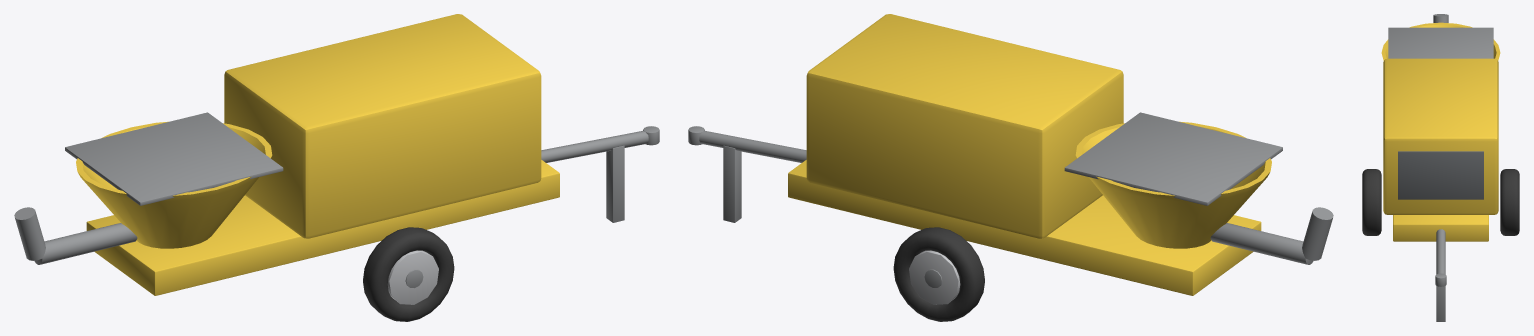
The model's file is EQP-CON-007_lod1.glb.
3 views of the same model, side by side, from view 1: azimuth 30°, elevation 25°; view 2: azimuth 150°, elevation 25°; view 3: azimuth 270°, elevation 25° (orthographic). The views are drawn at different scales.
Visible parts, largest first — view 1: EQP-CON-007_motor, EQP-CON-007_chassi, EQP-CON-007_grelha, EQP-CON-007_funil, EQP-CON-007_roda-1_pneu, EQP-CON-007_saida, EQP-CON-007_roda-1_aro, EQP-CON-007_cambao, EQP-CON-007_apoio, EQP-CON-007_curva; view 2: EQP-CON-007_motor, EQP-CON-007_chassi, EQP-CON-007_grelha, EQP-CON-007_funil, EQP-CON-007_roda1_pneu, EQP-CON-007_saida, EQP-CON-007_roda1_aro, EQP-CON-007_cambao, EQP-CON-007_apoio, EQP-CON-007_curva; view 3: EQP-CON-007_motor, EQP-CON-007_grade, EQP-CON-007_grelha, EQP-CON-007_chassi, EQP-CON-007_roda1_pneu, EQP-CON-007_roda-1_pneu, EQP-CON-007_funil, EQP-CON-007_cambao, EQP-CON-007_apoio, EQP-CON-007_engate, EQP-CON-007_curva.
Part boxes in pixels (left/top/right/bottom): EQP-CON-007_motor: left=224, top=14, right=541, bottom=238; EQP-CON-007_chassi: left=86, top=160, right=559, bottom=295; EQP-CON-007_grelha: left=65, top=112, right=283, bottom=205; EQP-CON-007_funil: left=76, top=121, right=272, bottom=248; EQP-CON-007_roda-1_pneu: left=363, top=227, right=454, bottom=321; EQP-CON-007_saida: left=34, top=223, right=137, bottom=264; EQP-CON-007_roda-1_aro: left=387, top=250, right=438, bottom=304; EQP-CON-007_cambao: left=541, top=130, right=648, bottom=162; EQP-CON-007_apoio: left=606, top=145, right=624, bottom=222; EQP-CON-007_curva: left=14, top=207, right=45, bottom=260; EQP-CON-007_motor: left=806, top=14, right=1123, bottom=238; EQP-CON-007_chassi: left=788, top=160, right=1261, bottom=295; EQP-CON-007_grelha: left=1064, top=112, right=1282, bottom=205; EQP-CON-007_funil: left=1075, top=121, right=1271, bottom=248; EQP-CON-007_roda1_pneu: left=893, top=227, right=984, bottom=321; EQP-CON-007_saida: left=1210, top=223, right=1313, bottom=264; EQP-CON-007_roda1_aro: left=909, top=250, right=960, bottom=304; EQP-CON-007_cambao: left=699, top=130, right=806, bottom=162; EQP-CON-007_apoio: left=723, top=145, right=741, bottom=222; EQP-CON-007_curva: left=1302, top=207, right=1333, bottom=260; EQP-CON-007_motor: left=1383, top=58, right=1498, bottom=214; EQP-CON-007_grade: left=1398, top=151, right=1483, bottom=199; EQP-CON-007_grelha: left=1388, top=27, right=1493, bottom=58; EQP-CON-007_chassi: left=1393, top=215, right=1488, bottom=241; EQP-CON-007_roda1_pneu: left=1500, top=169, right=1519, bottom=235; EQP-CON-007_roda-1_pneu: left=1362, top=169, right=1381, bottom=235; EQP-CON-007_funil: left=1381, top=22, right=1500, bottom=60; EQP-CON-007_cambao: left=1436, top=229, right=1445, bottom=274; EQP-CON-007_apoio: left=1436, top=286, right=1445, bottom=321; EQP-CON-007_engate: left=1435, top=273, right=1446, bottom=286; EQP-CON-007_curva: left=1433, top=14, right=1448, bottom=22.
Size of the model in its own units: 5.38 by 1.65 by 1.64.
